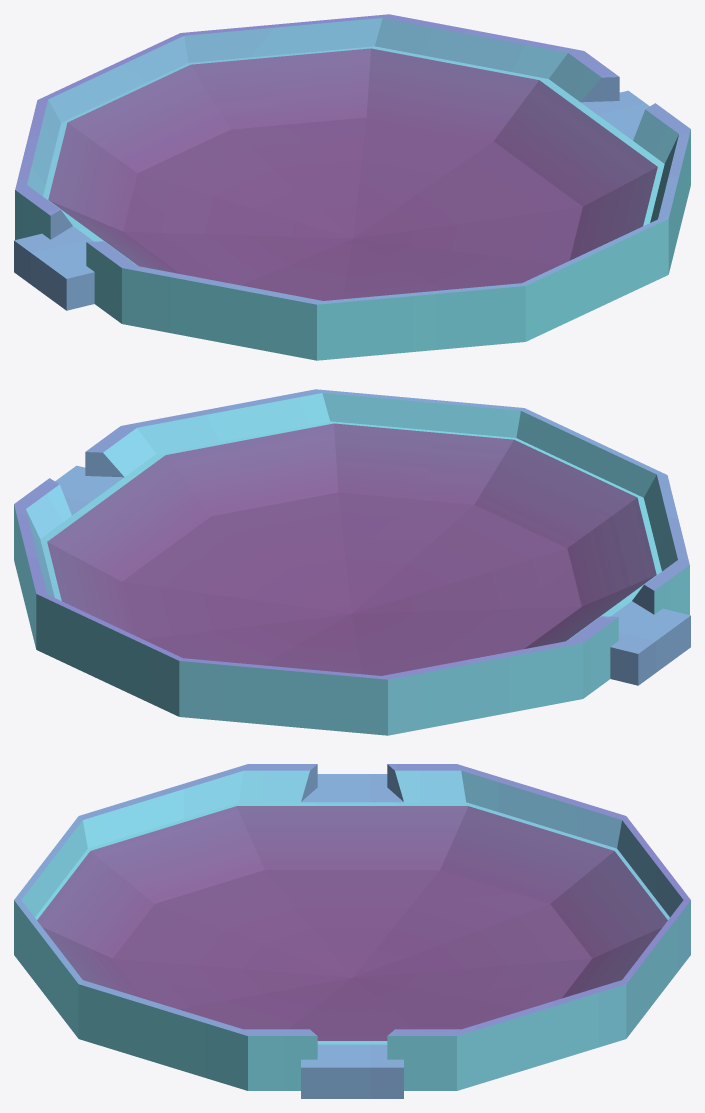
File: manhole002.obj
The picture shows the model from 3 angles, top to bottom: view 1: azimuth 30°, elevation 25°; view 2: azimuth 150°, elevation 25°; view 3: azimuth 270°, elevation 25°; orthographic projection. The views are drawn at different scales.
Parts seen in each view (by area): view 1: Manhole.002; view 2: Manhole.002; view 3: Manhole.002.
Boxes of the visible parts, <box> form: Manhole.002: <box>14,14,690,360</box>; Manhole.002: <box>14,389,690,735</box>; Manhole.002: <box>14,764,690,1098</box>.
Bounding box in the file's own units: 3.61 × 0.4447 × 3.51.
Materials: 1 (1 with a texture image).
